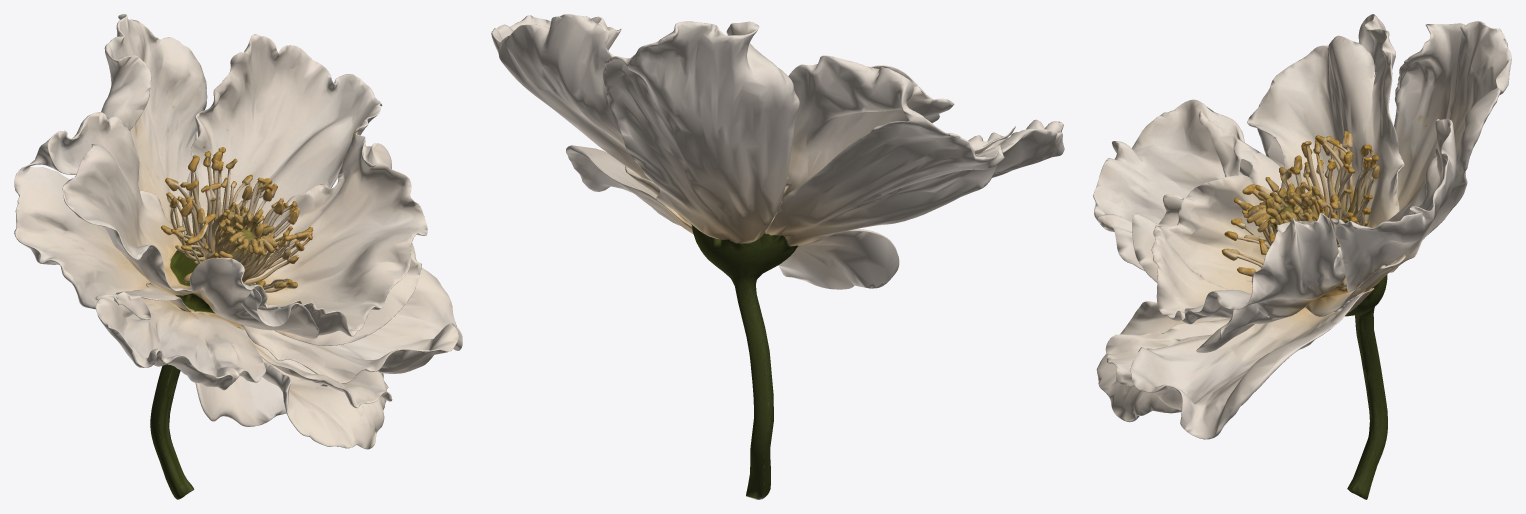
Rendered from ivory-flower.glb.
3 renders of one model, left to right at view 1: azimuth 30°, elevation 25°; view 2: azimuth 150°, elevation 25°; view 3: azimuth 270°, elevation 25°, orthographic. The views are drawn at different scales.
Bounding box in the file's own units: 1.78 × 1.9 × 1.52.
Materials: 1 (1 with a texture image).
